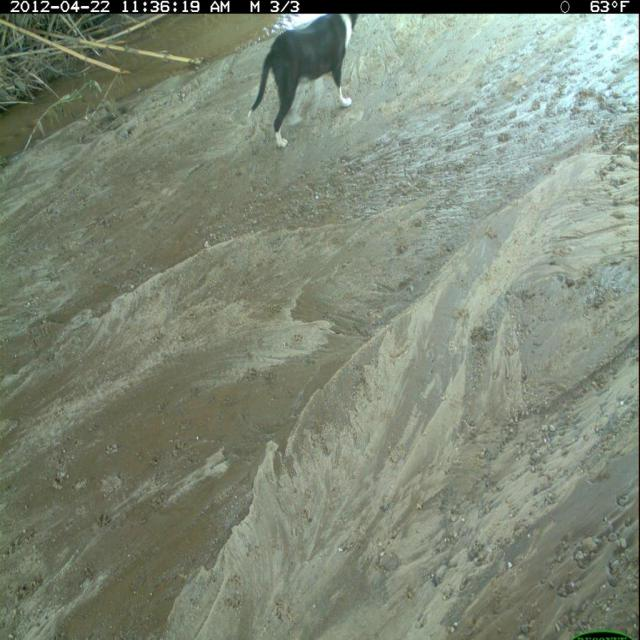dog: (246, 15, 367, 151)
